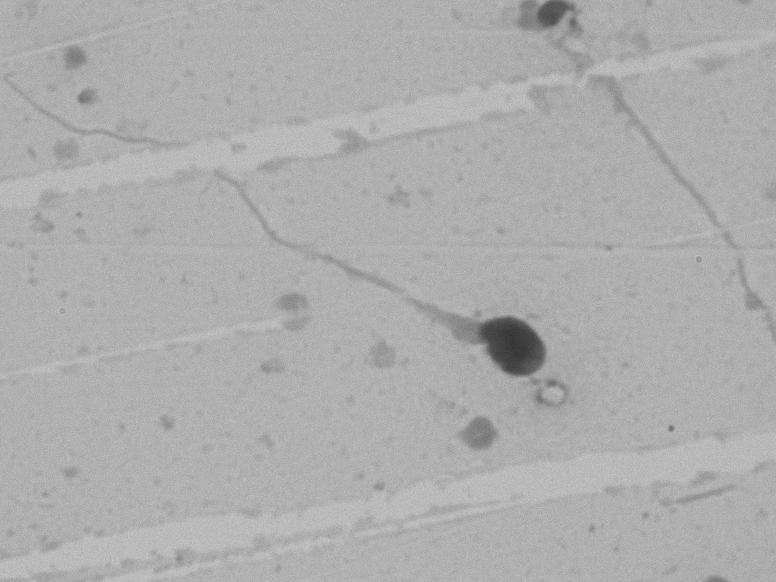Abnormal: (224, 157, 580, 400)
